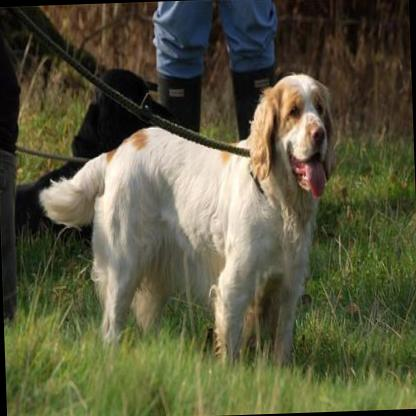clumber: (34, 67, 348, 382)
